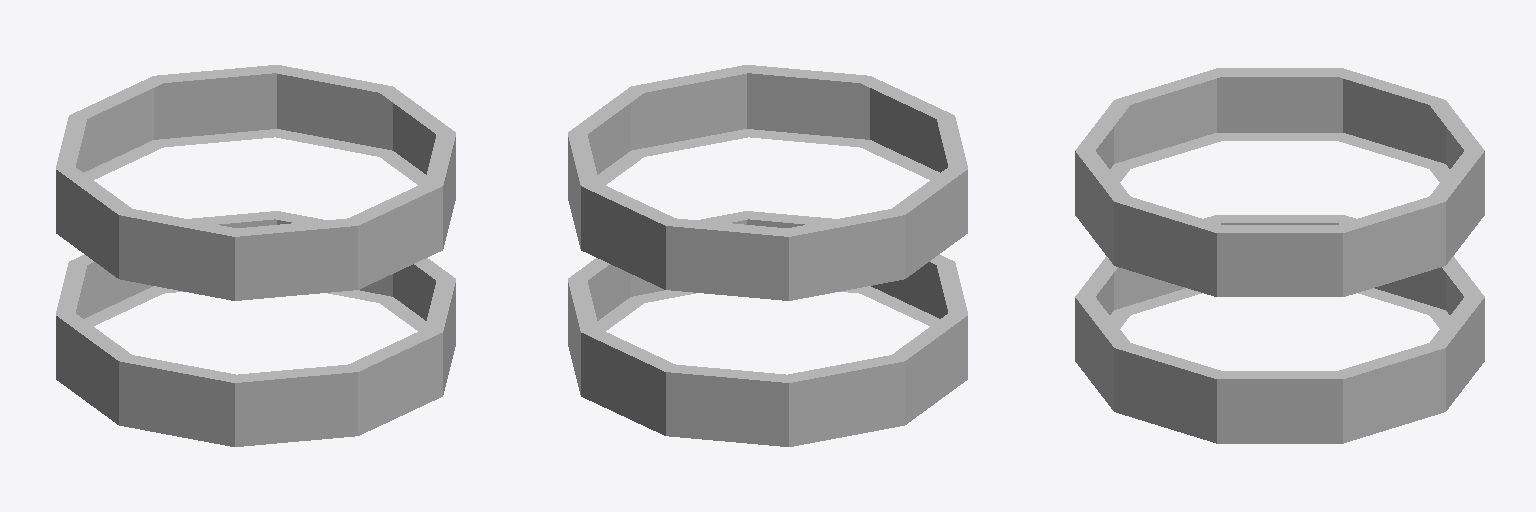
File: rings.obj
The picture shows the model from 3 angles: view 1: azimuth 30°, elevation 25°; view 2: azimuth 150°, elevation 25°; view 3: azimuth 270°, elevation 25°; orthographic projection.
Parts seen in each view (by area): view 1: Cylinder.002; view 2: Cylinder.002; view 3: Cylinder.002.
Part boxes in pixels (left/top/right/bottom): Cylinder.002: left=56, top=65, right=455, bottom=446; Cylinder.002: left=568, top=65, right=967, bottom=446; Cylinder.002: left=1075, top=68, right=1484, bottom=443.
Bounding box in the file's own units: 2.89 × 1.72 × 3.04.